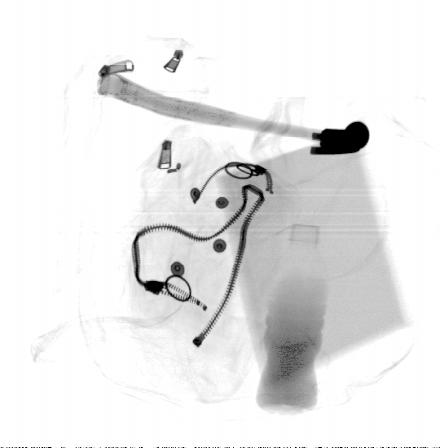Hammer: (95, 67, 371, 156)
